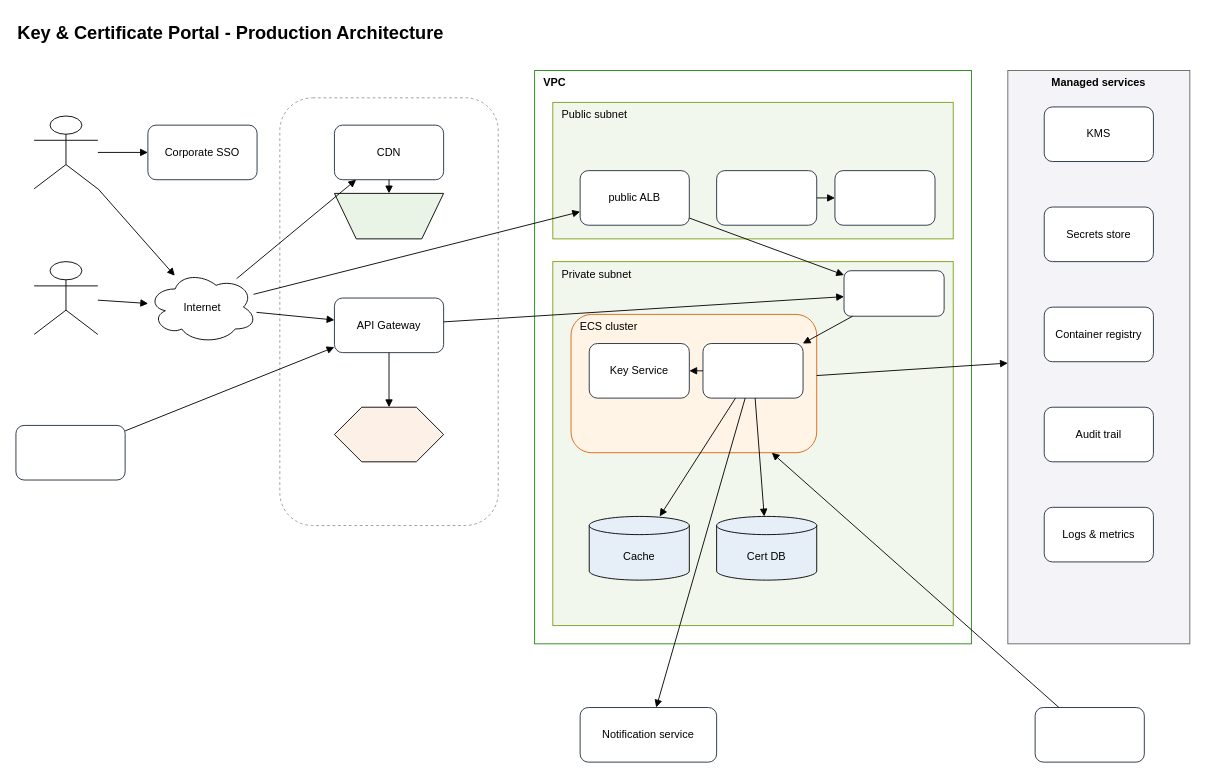
The diagram is 1206 pixels wide and 778 high, and some of its shapes have lost their labels. The centre of each missing label's shape, as x and y in pixels:
"Cert Service" goes at (752,370).
"CI/CD" goes at (1089,734).
"internal ALB" goes at (893,293).
"Internal services" goes at (70,452).
"Internet gateway" goes at (884,197).
"NAT gateway" goes at (766,197).
"Operators" goes at (65,152).
"Portal UI bucket" goes at (389,215).
"Security admins" goes at (65,297).
"Token authorizer" goes at (389,434).
